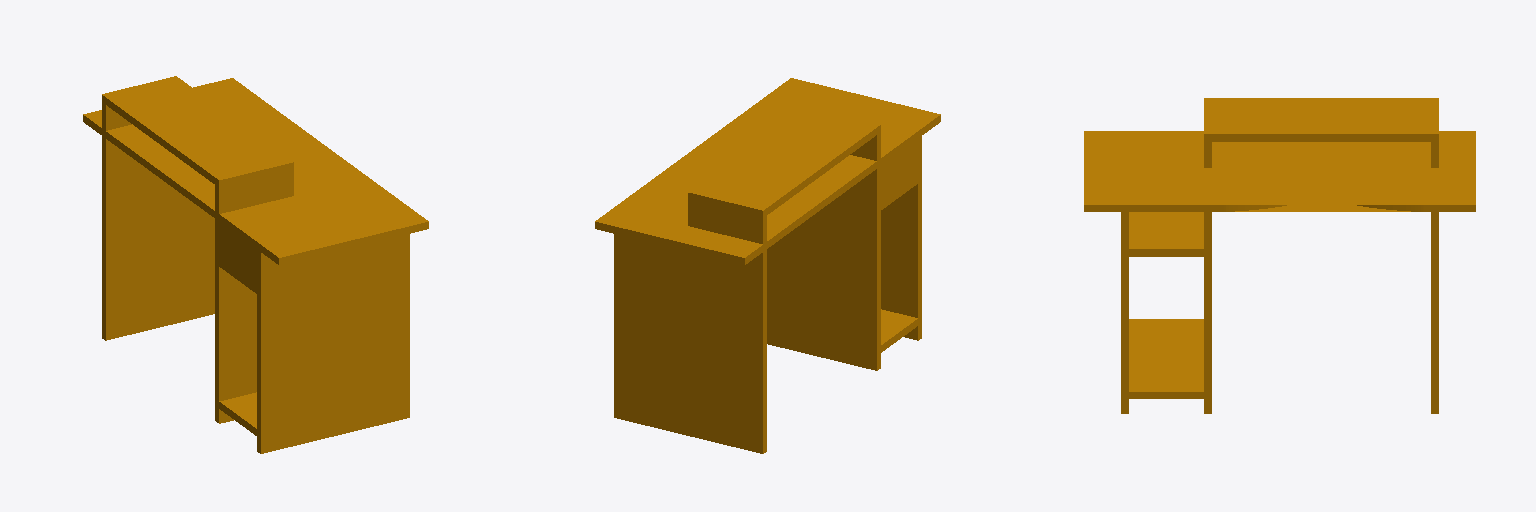
File: Table.obj
3 renders of one model, left to right at view 1: azimuth 30°, elevation 25°; view 2: azimuth 150°, elevation 25°; view 3: azimuth 270°, elevation 25°, orthographic.
Parts seen in each view (by area): view 1: Cube.002; view 2: Cube.002; view 3: Cube.002.
Boxes of the visible parts, x1,y1,x2,y2 form: Cube.002: [83, 76, 428, 453]; Cube.002: [595, 78, 940, 453]; Cube.002: [1084, 98, 1475, 413].
Size of the model in its own units: 4.19 by 6.5 by 9.5.